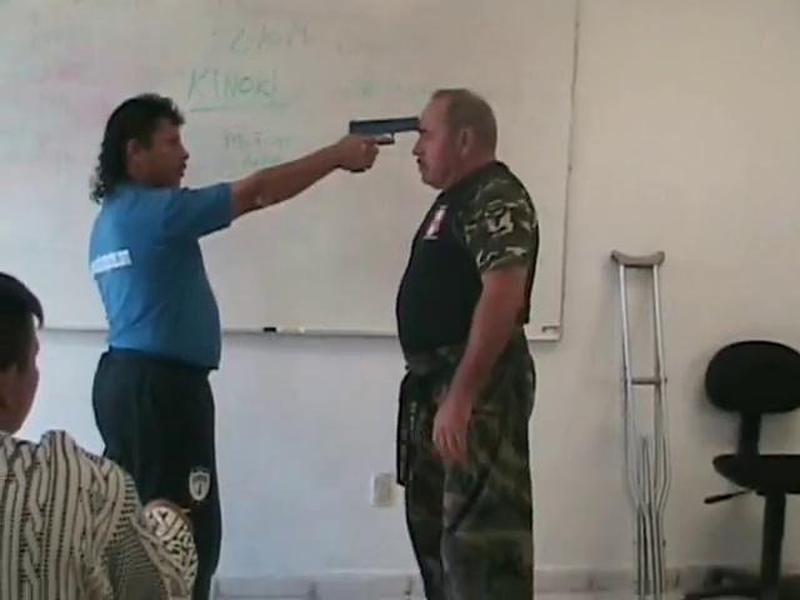Pistola: (328, 110, 427, 197)
